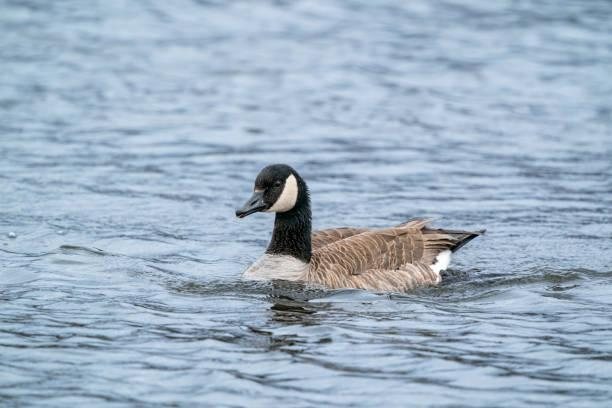Canadian-Goose: (234, 161, 485, 289)
